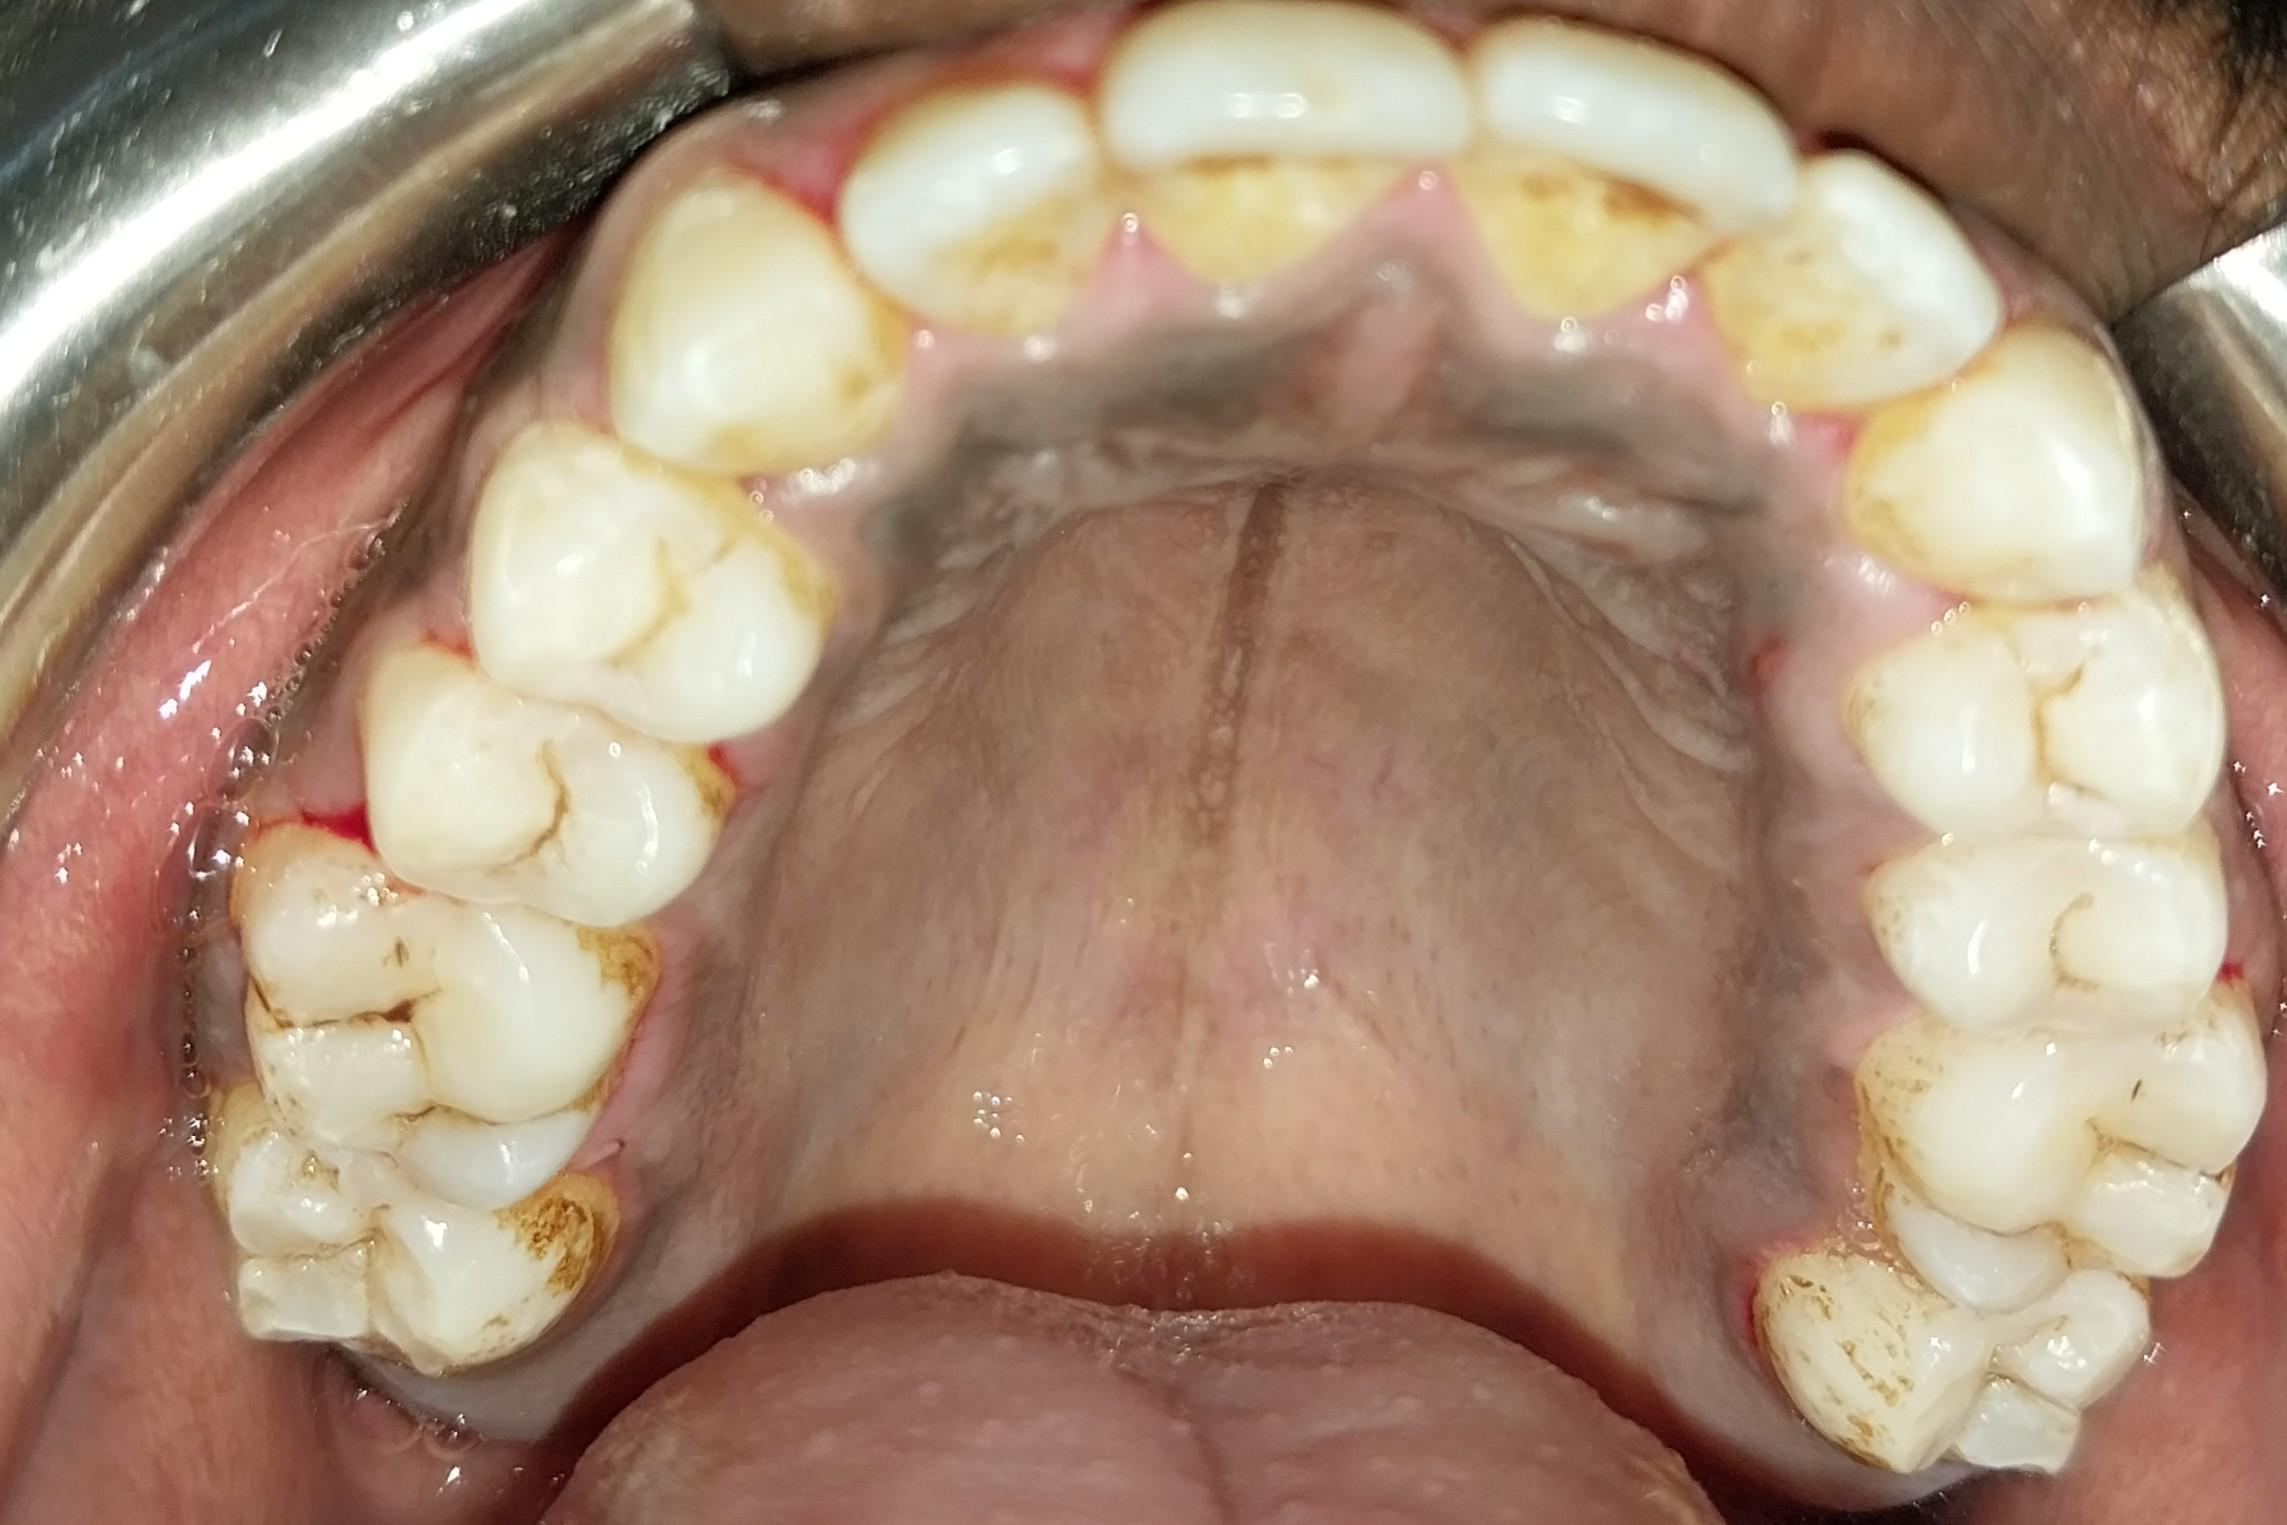D: (238, 838, 638, 1201)
